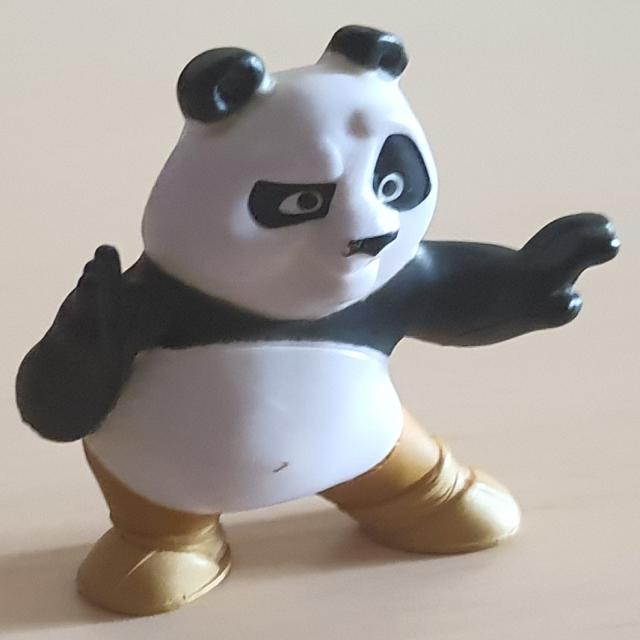Panda: (14, 23, 622, 616)
